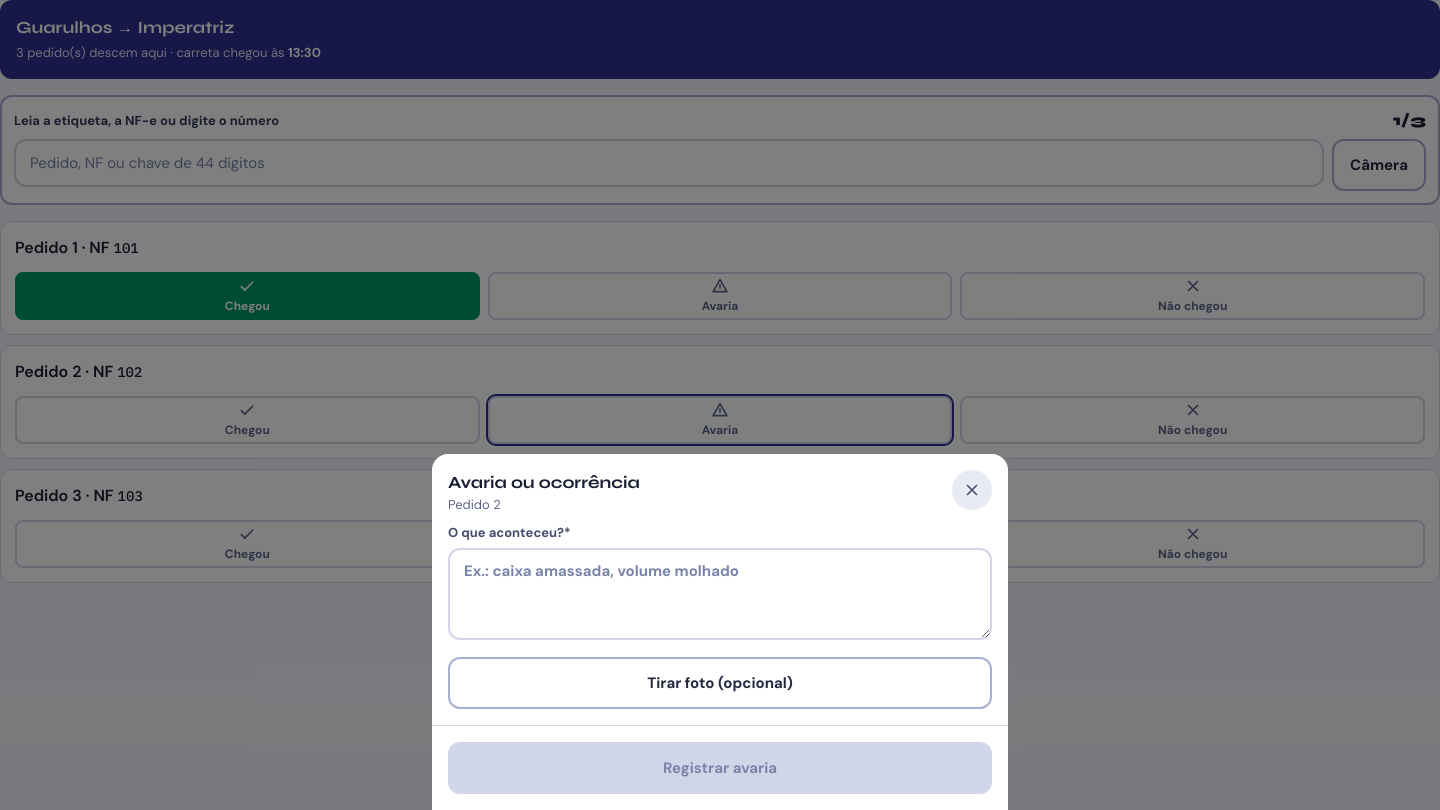
Test case: TripReceivePage: chegada e conferência › avaria pede descrição; "não chegou" pede confirmação; envia tudo numa só chamada
Earlier steps of the test are not shown.
Expected: the button "Registrar avaria" is disabled, [448,742,992,794]
Type "caixa amassada" into the text box labelled "O que aconteceu?*" at (720, 594), box [448,548,992,640]
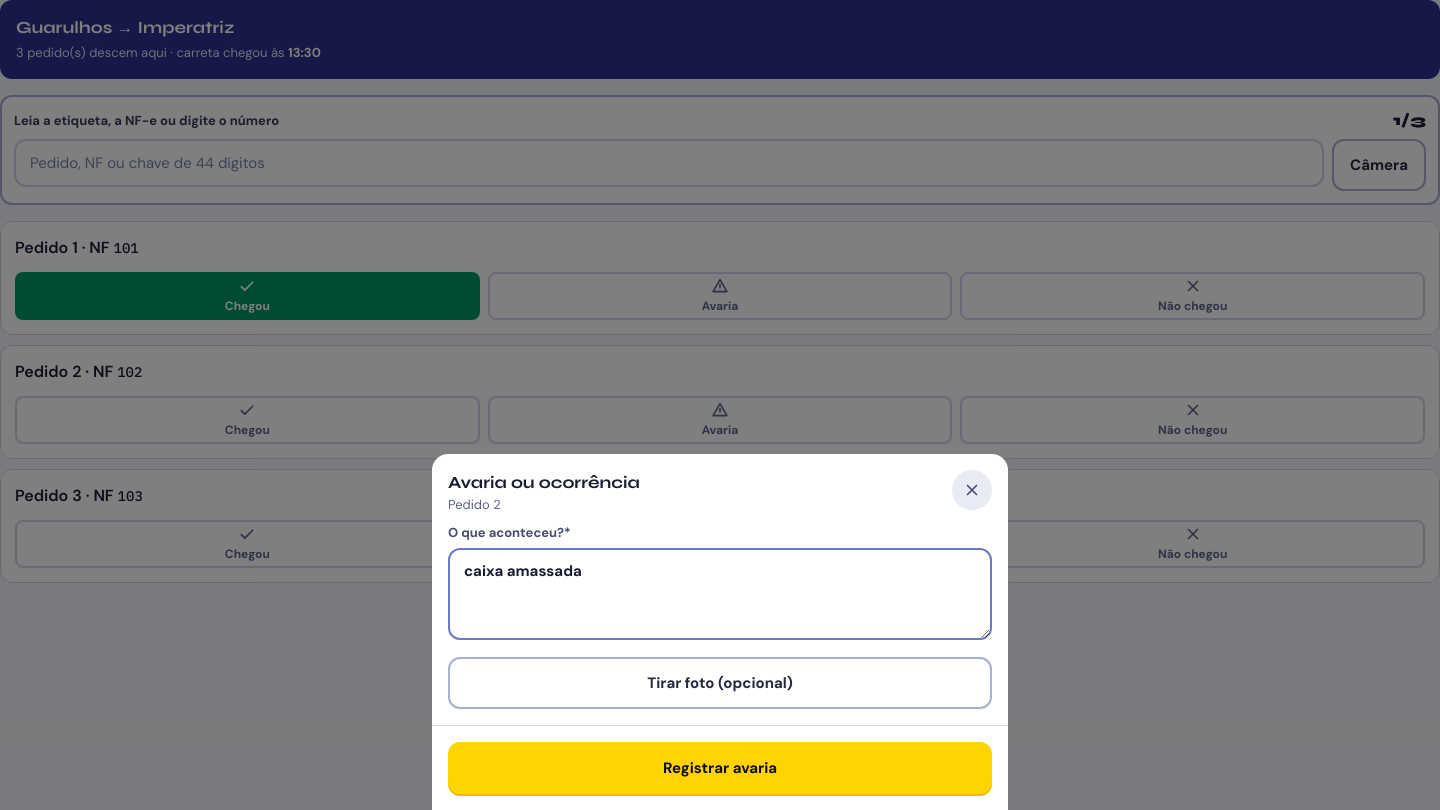
Click the button "Registrar avaria" at (720, 768), box [448,742,992,794]
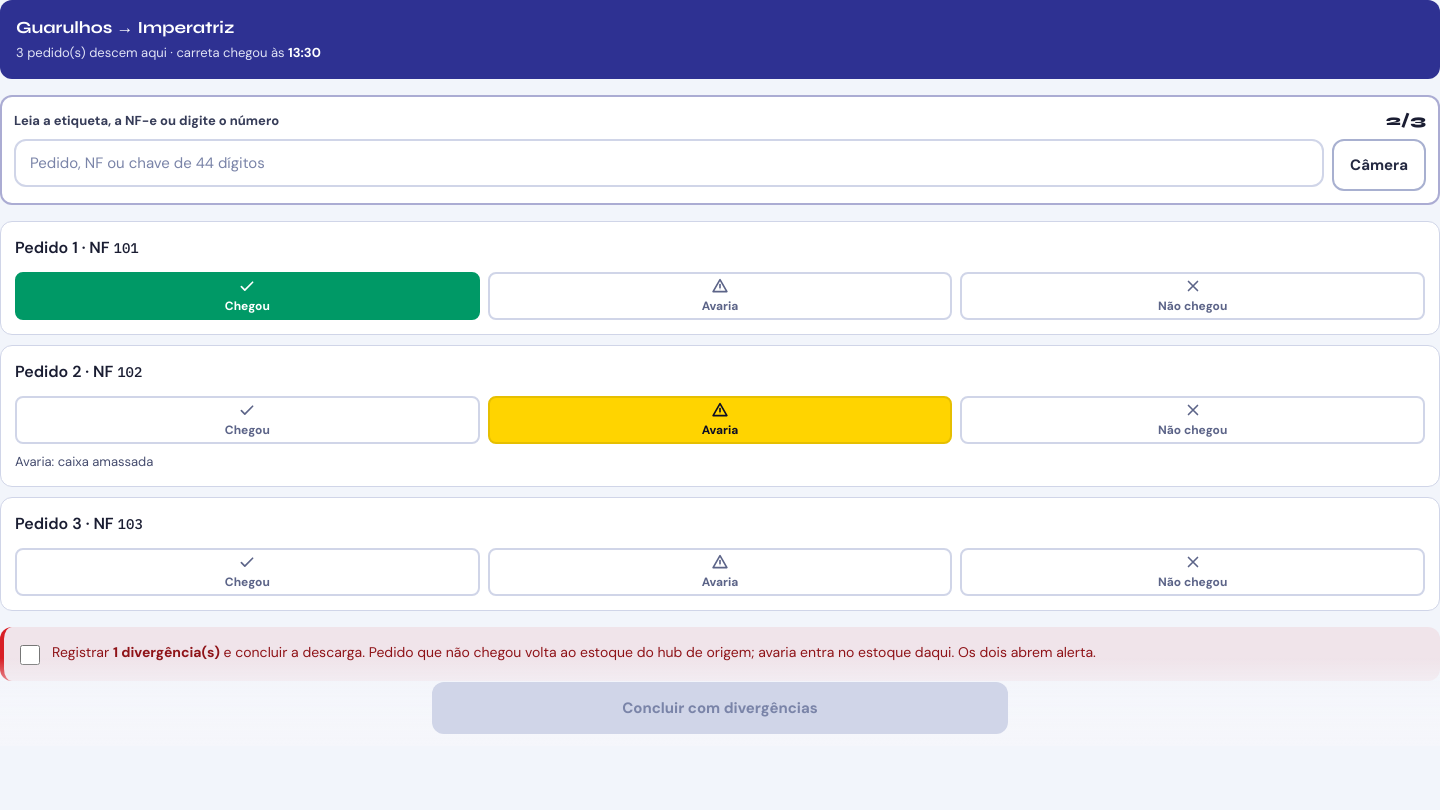
Click the 3rd button "Não chegou" at (1193, 572), box [960,548,1425,596]
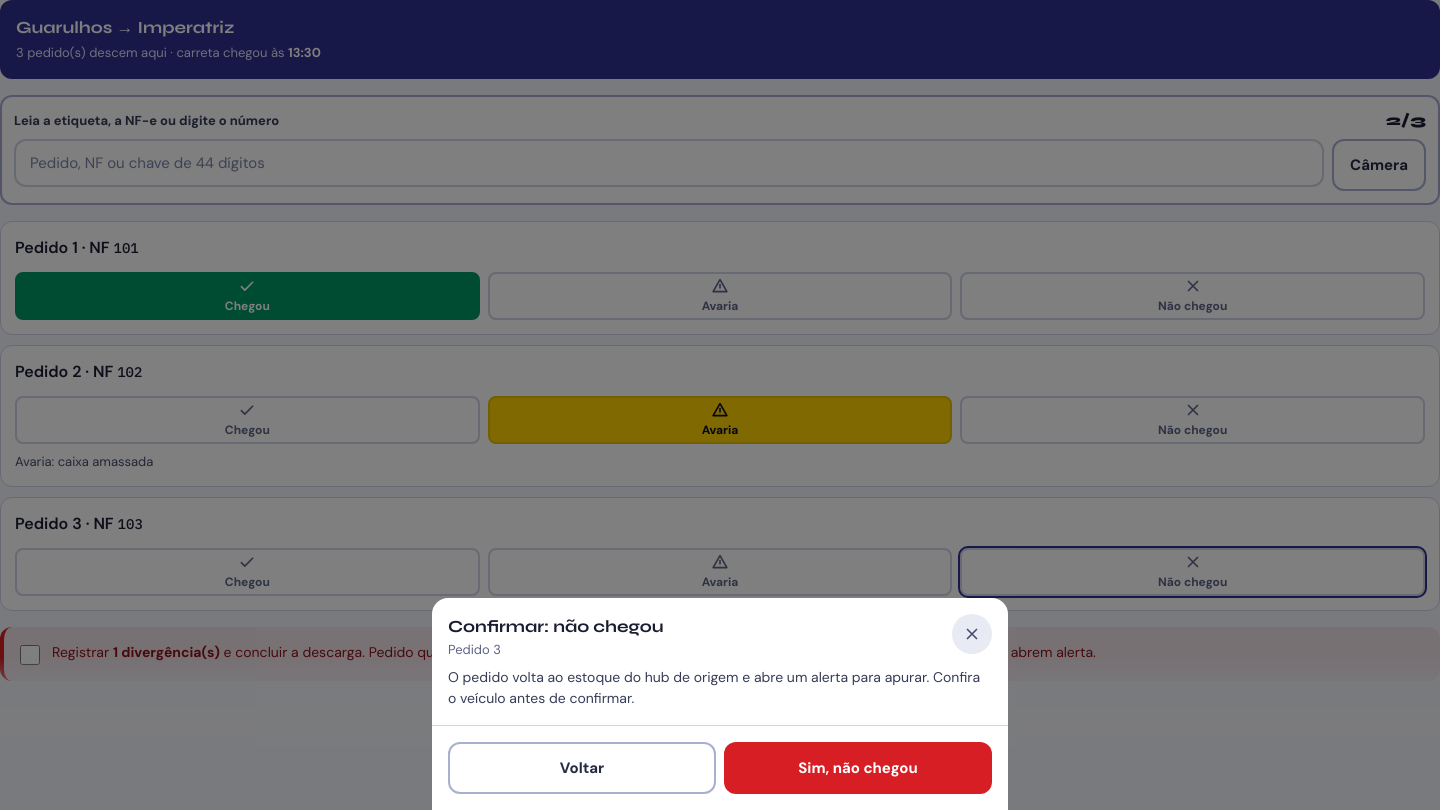
Click the button "Sim, não chegou" at (858, 768), box [724,742,992,794]
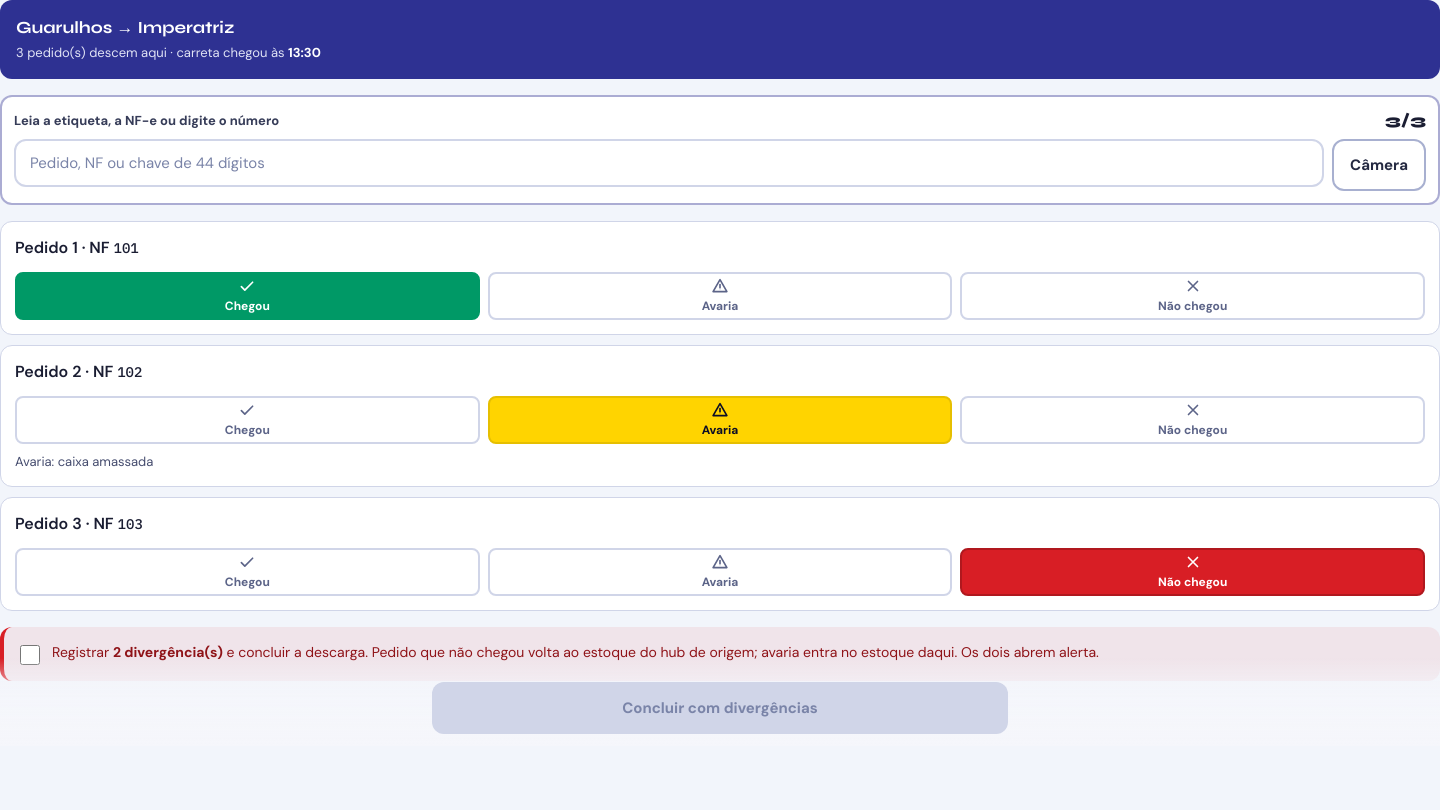
Click the checkbox at (30, 655), box [20,645,40,665]
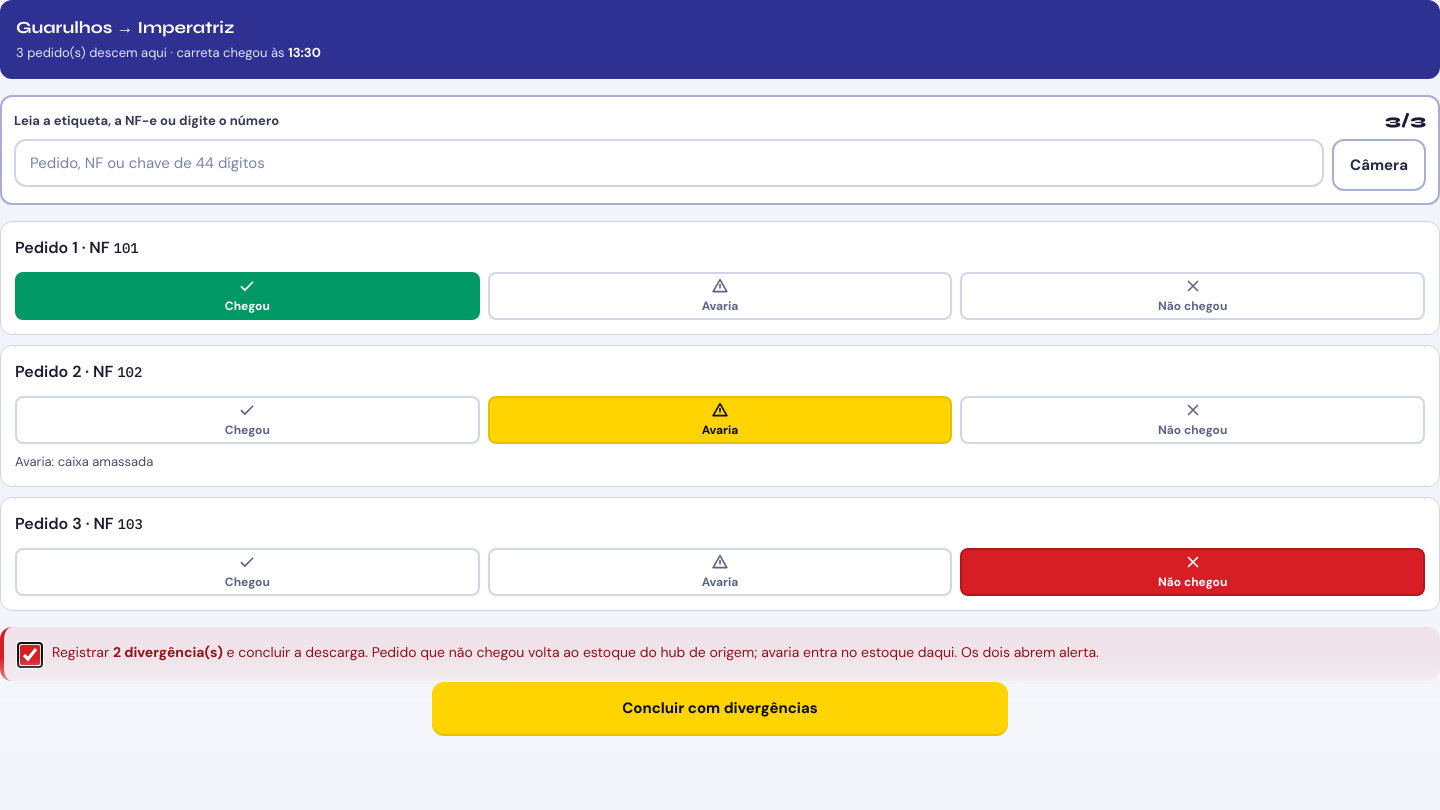
Click the button "Concluir com divergências" at (720, 708), box [432,682,1008,734]
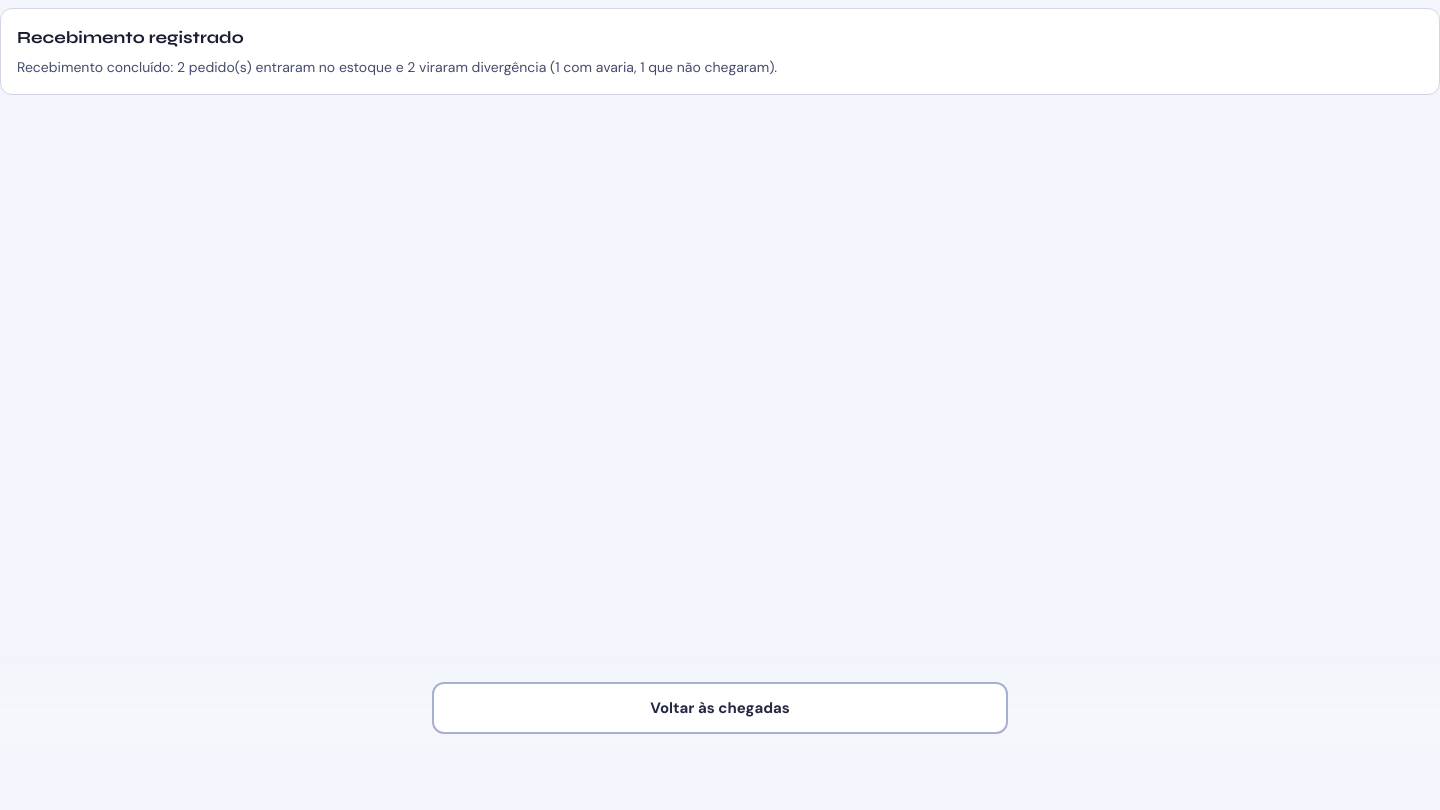
Expected: the message shows "2 pedido(s) entraram no estoque e 2 viraram divergência", [17,58,777,76]
